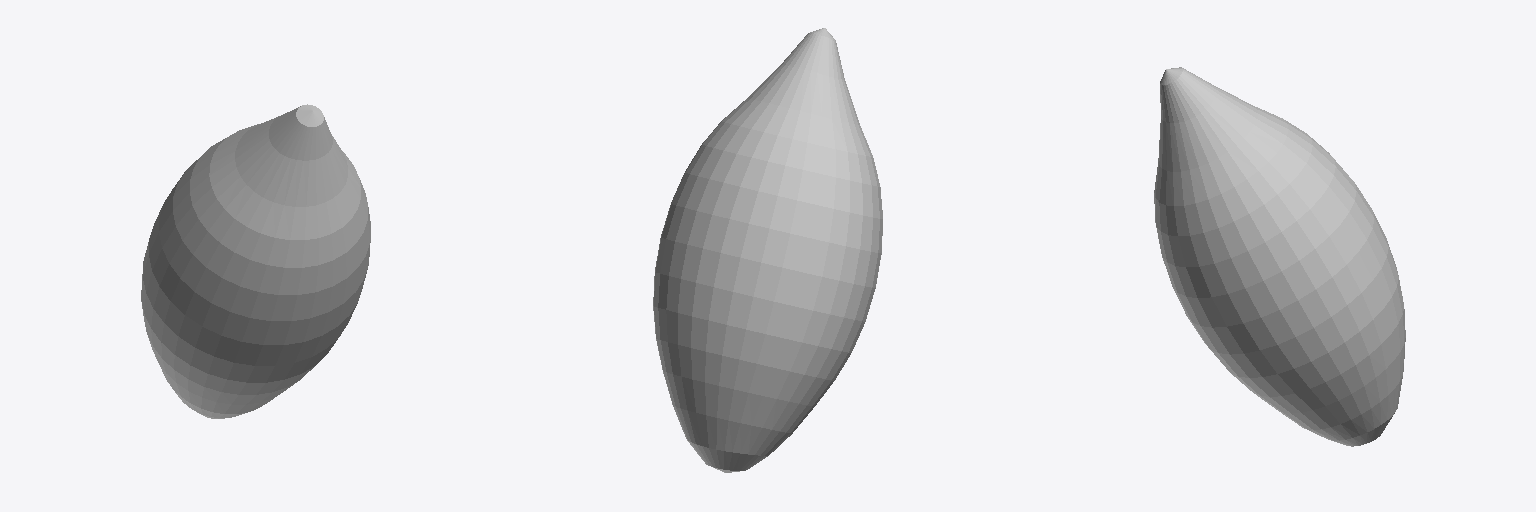
Rendered from spors.obj.
3 renders of one model, left to right at view 1: azimuth 30°, elevation 25°; view 2: azimuth 150°, elevation 25°; view 3: azimuth 270°, elevation 25°, orthographic.
Visible parts, largest first — view 1: Sphere; view 2: Sphere; view 3: Sphere.
Part boxes in pixels (x1,y1,x2,y2): Sphere: (141,104,370,418); Sphere: (653,28,882,472); Sphere: (1154,67,1405,446).
Size of the model in its own units: 0.5488 by 1.01 by 0.6183.